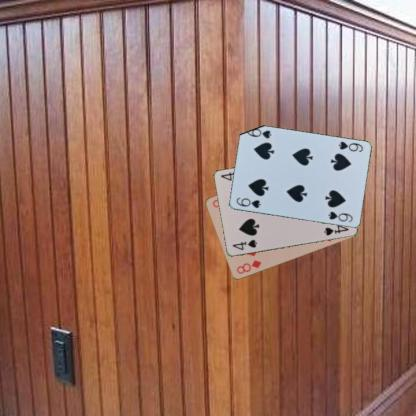4s: (230, 237, 258, 251)
6s: (233, 195, 262, 209), (336, 139, 364, 153)
8d: (234, 258, 262, 275)
